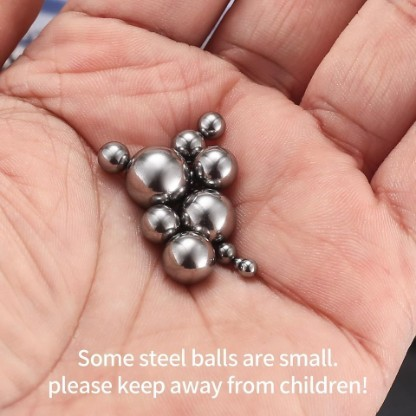ironball: (125, 145, 190, 208), (179, 188, 235, 241), (161, 230, 215, 284), (192, 145, 237, 189), (139, 204, 180, 243), (171, 129, 205, 162), (97, 140, 129, 173), (196, 110, 225, 139), (214, 241, 236, 264), (233, 257, 257, 277)
